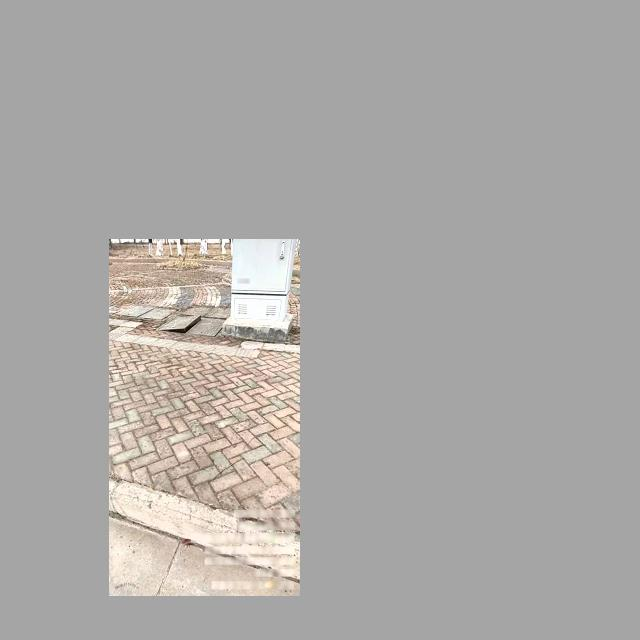good: (109, 304, 178, 323)
uncovered: (157, 314, 227, 336)
